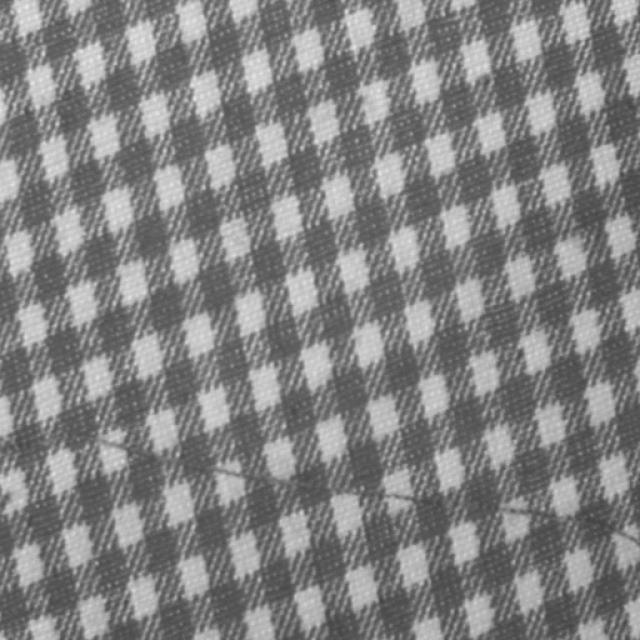Foreign-Body-Defect: (66, 419, 632, 546)
